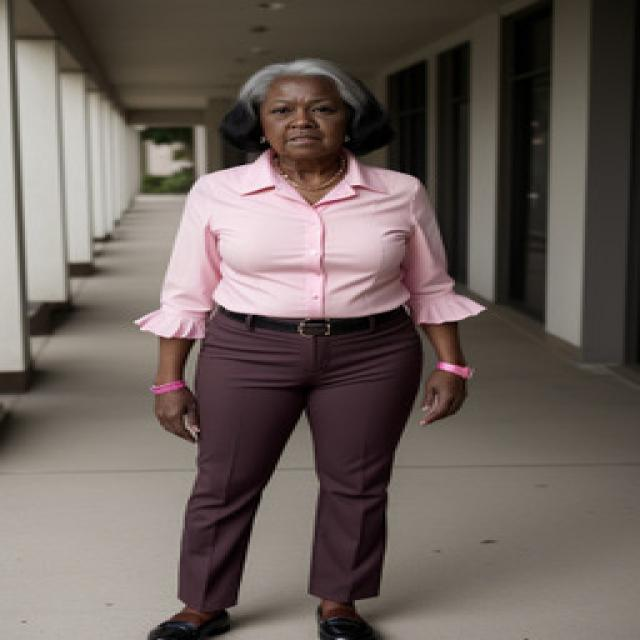Ai human 2: (134, 50, 529, 640)
